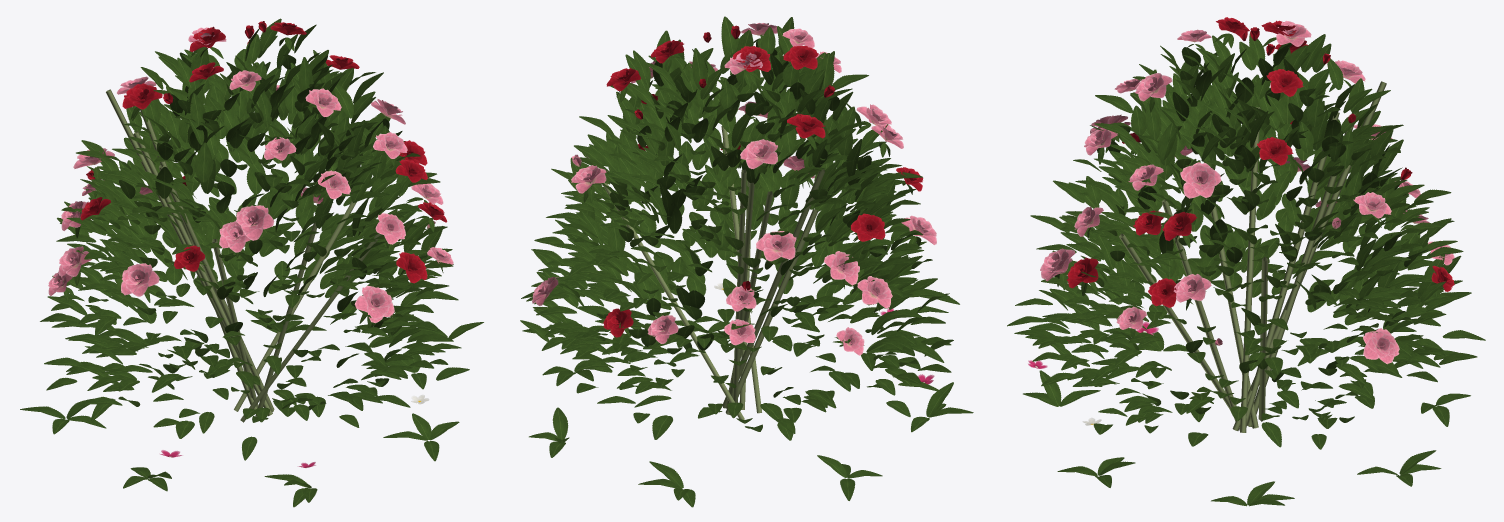
File: yh_rosebush.glb
3 renders of one model, left to right at view 1: azimuth 30°, elevation 25°; view 2: azimuth 150°, elevation 25°; view 3: azimuth 270°, elevation 25°, orthographic. The views are drawn at different scales.
Parts seen in each view (by area): view 1: yh_rosebush_花叶, yh_rosebush_茎; view 2: yh_rosebush_花叶, yh_rosebush_茎; view 3: yh_rosebush_花叶, yh_rosebush_茎.
Boxes of the visible parts, x1,y1,x2,y2 form: yh_rosebush_花叶: (20,18,483,507); yh_rosebush_茎: (106,89,381,422); yh_rosebush_花叶: (520,16,973,507); yh_rosebush_茎: (585,126,824,419); yh_rosebush_花叶: (1007,17,1485,506); yh_rosebush_茎: (1119,81,1386,432).
Size of the model in its own units: 1.09 by 1 by 1.1.
Materials: 2 (1 with a texture image).
